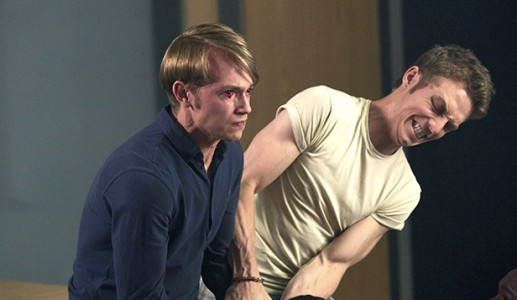bad: (204, 73, 266, 135)
